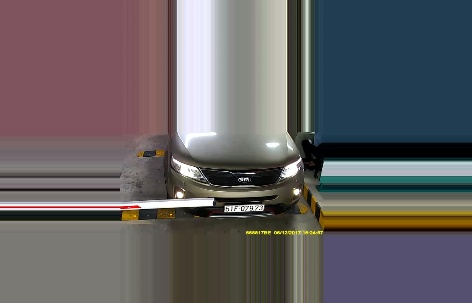plate: (222, 202, 265, 215)
